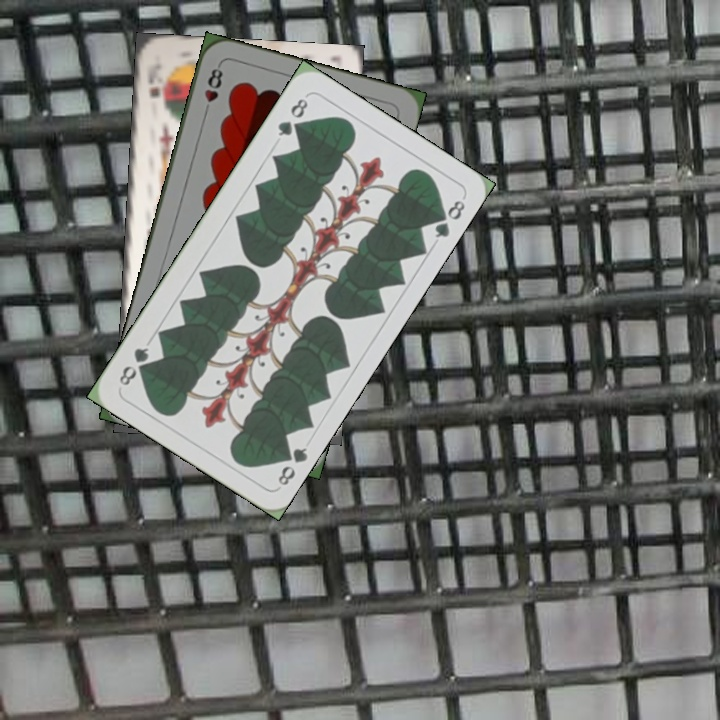G8: (273, 442, 310, 489), (273, 94, 311, 139)
H8: (199, 61, 226, 119)
SK: (143, 59, 164, 100)
